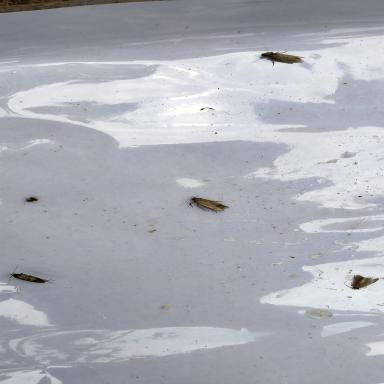pbw: (4, 265, 54, 283), (252, 50, 304, 67), (189, 195, 229, 211), (346, 273, 381, 291)
